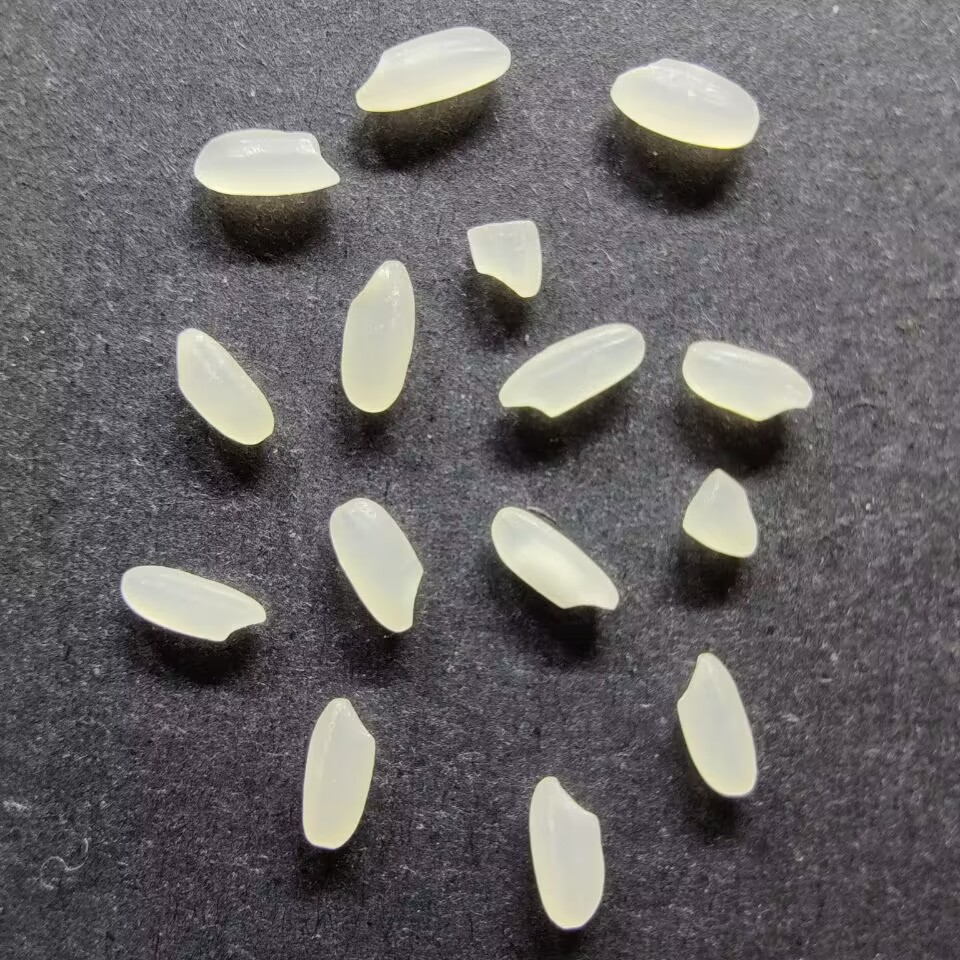broken: (680, 466, 762, 560), (465, 218, 545, 300)
rice: (497, 320, 647, 420), (489, 504, 623, 612), (353, 24, 513, 114), (608, 56, 761, 150), (327, 496, 426, 635), (527, 775, 608, 931), (174, 326, 278, 447), (674, 651, 759, 798), (338, 257, 416, 414), (300, 694, 378, 850), (119, 564, 268, 643), (680, 339, 816, 422), (191, 126, 343, 197)
